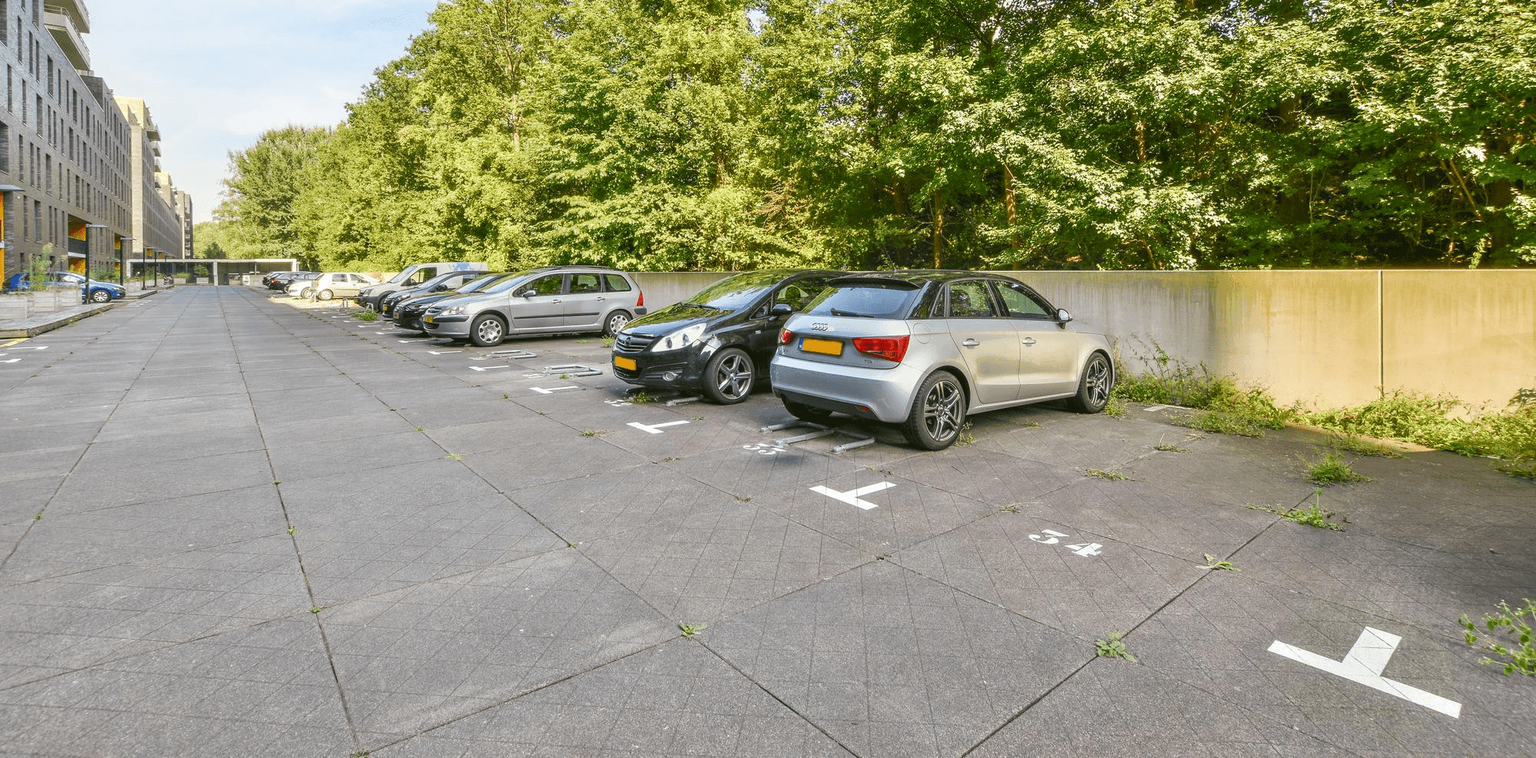Car: (776, 266, 1129, 450), (613, 266, 862, 404), (413, 265, 657, 352), (2, 257, 137, 318), (366, 257, 498, 319), (311, 270, 391, 294)
